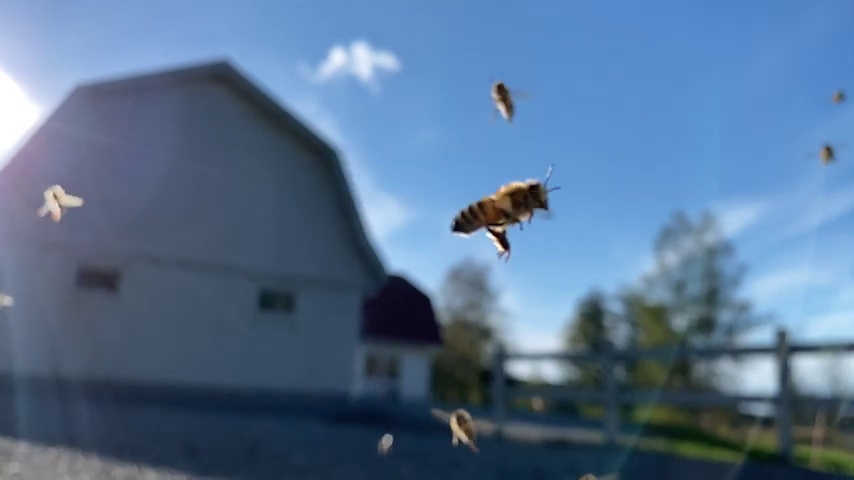insect: (445, 165, 562, 261), (431, 407, 499, 452), (38, 183, 84, 223), (487, 79, 522, 126), (806, 138, 843, 165), (831, 89, 851, 109)
